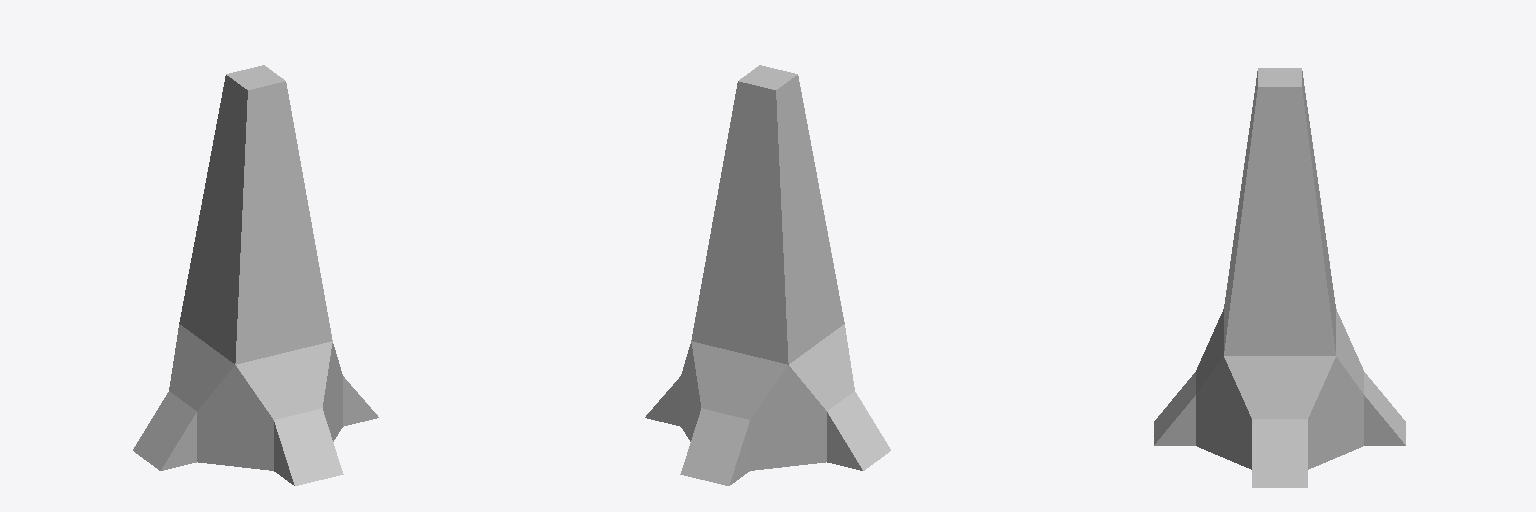
The model's file is spike.obj.
3 renders of one model, left to right at view 1: azimuth 30°, elevation 25°; view 2: azimuth 150°, elevation 25°; view 3: azimuth 270°, elevation 25°, orthographic.
Visible parts, largest first — view 1: Cube_Cube.001; view 2: Cube_Cube.001; view 3: Cube_Cube.001.
Part boxes in pixels (bbox=[...]): Cube_Cube.001: bbox=[133, 65, 378, 485]; Cube_Cube.001: bbox=[645, 65, 890, 485]; Cube_Cube.001: bbox=[1154, 68, 1405, 487].
Bounding box in the file's own units: 4.5 × 7 × 4.5.